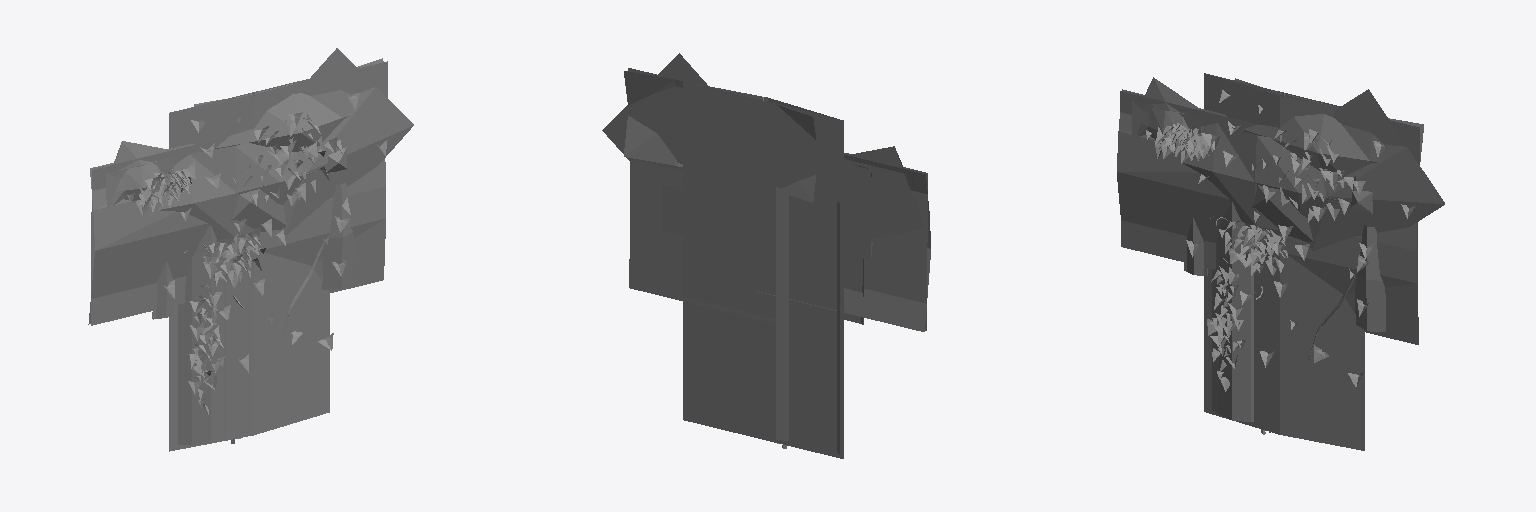
The model's file is Flat_Ivy_Dying.obj.
3 renders of one model, left to right at view 1: azimuth 30°, elevation 25°; view 2: azimuth 150°, elevation 25°; view 3: azimuth 330°, elevation 25°, orthographic.
Visible parts, largest first — view 1: Flat_Ivy_Dying_LOD0, Flat_Ivy_Dying_LOD2; view 2: Flat_Ivy_Dying_LOD2, Flat_Ivy_Dying_LOD0; view 3: Flat_Ivy_Dying_LOD0, Flat_Ivy_Dying_LOD2.
Part boxes in pixels (x1,y1,x2,y2): Flat_Ivy_Dying_LOD0: (88, 48, 413, 451); Flat_Ivy_Dying_LOD2: (91, 61, 387, 444); Flat_Ivy_Dying_LOD2: (602, 53, 927, 458); Flat_Ivy_Dying_LOD0: (624, 71, 930, 453); Flat_Ivy_Dying_LOD0: (1117, 73, 1444, 450); Flat_Ivy_Dying_LOD2: (1120, 73, 1436, 412).
Size of the model in its own units: 293 by 320 by 26.99.